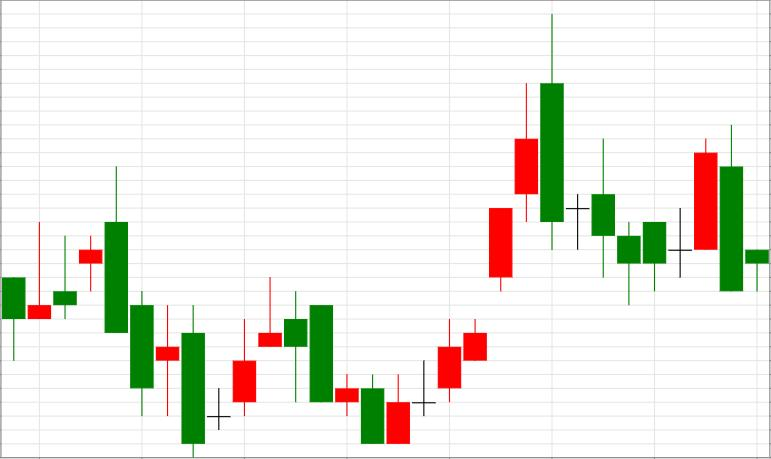bearish_engulfing_fall: (387, 12, 563, 444)
